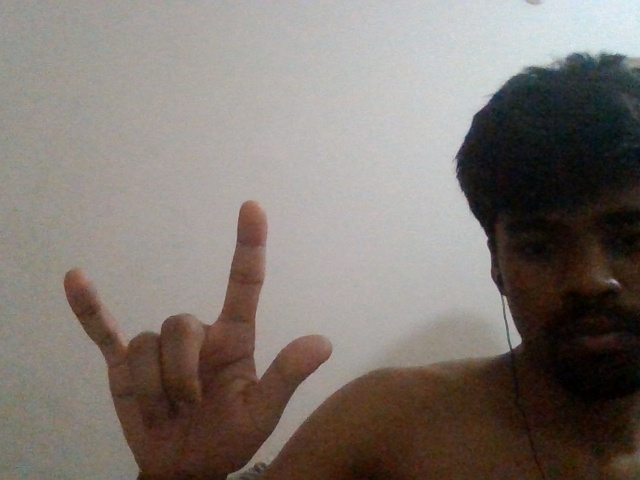ILoveYou: (63, 195, 338, 480)
